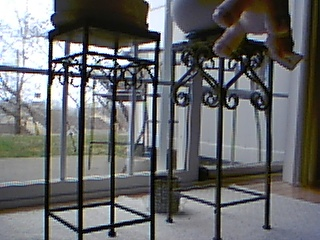piggy: (204, 1, 297, 59)
